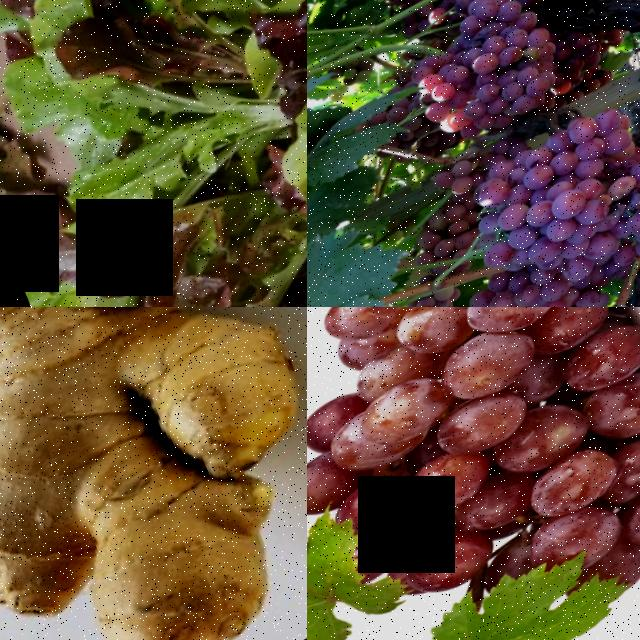ginger: (0, 307, 307, 640)
grapes: (307, 307, 640, 640), (434, 106, 640, 307), (393, 0, 567, 162)
